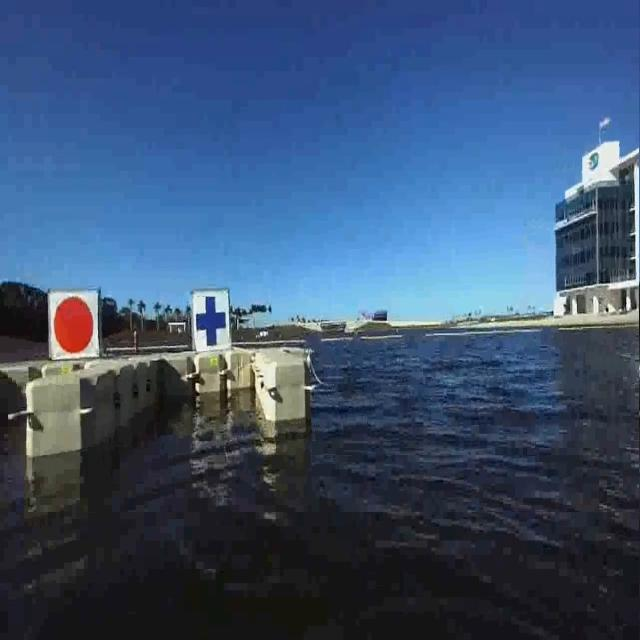blue-cross: (190, 289, 232, 353)
red-dot: (49, 291, 100, 360)
